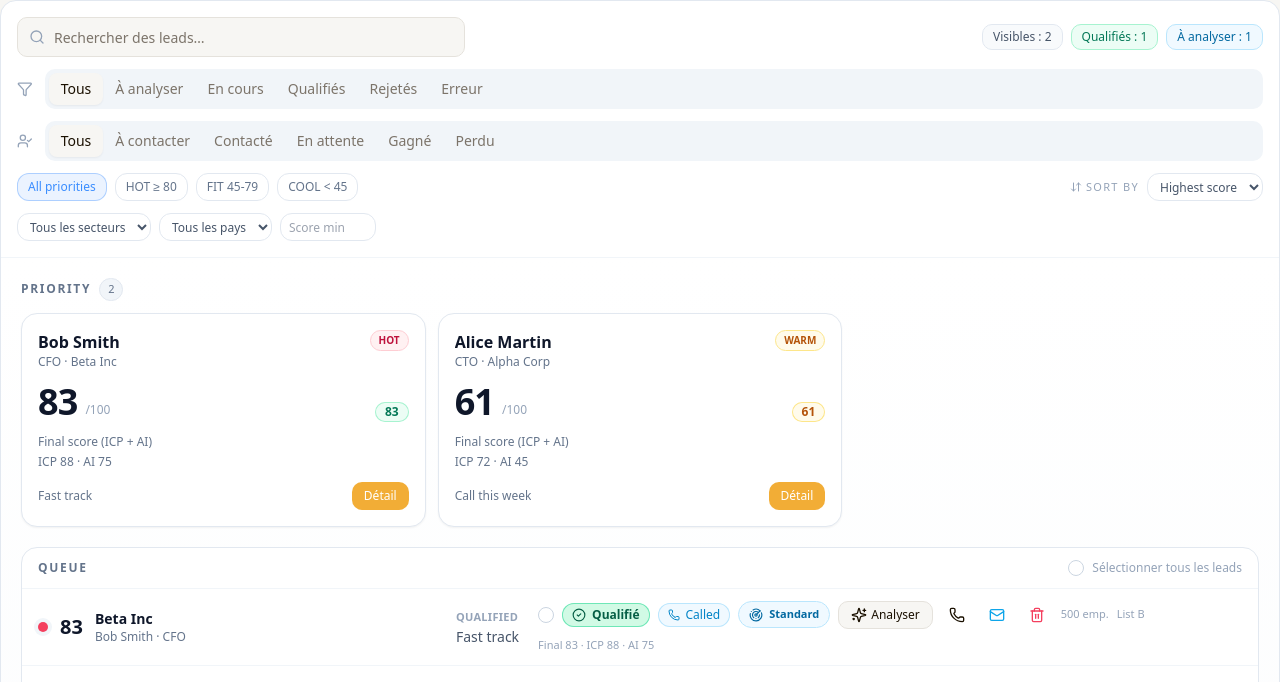
Test case: LeadsTable › filters leads by search text
The image size is (1280, 682).
Step 1. Type "Alpha" into the field with placeholder "Rechercher des leads…" → point(241, 37), box [17,17,465,57]
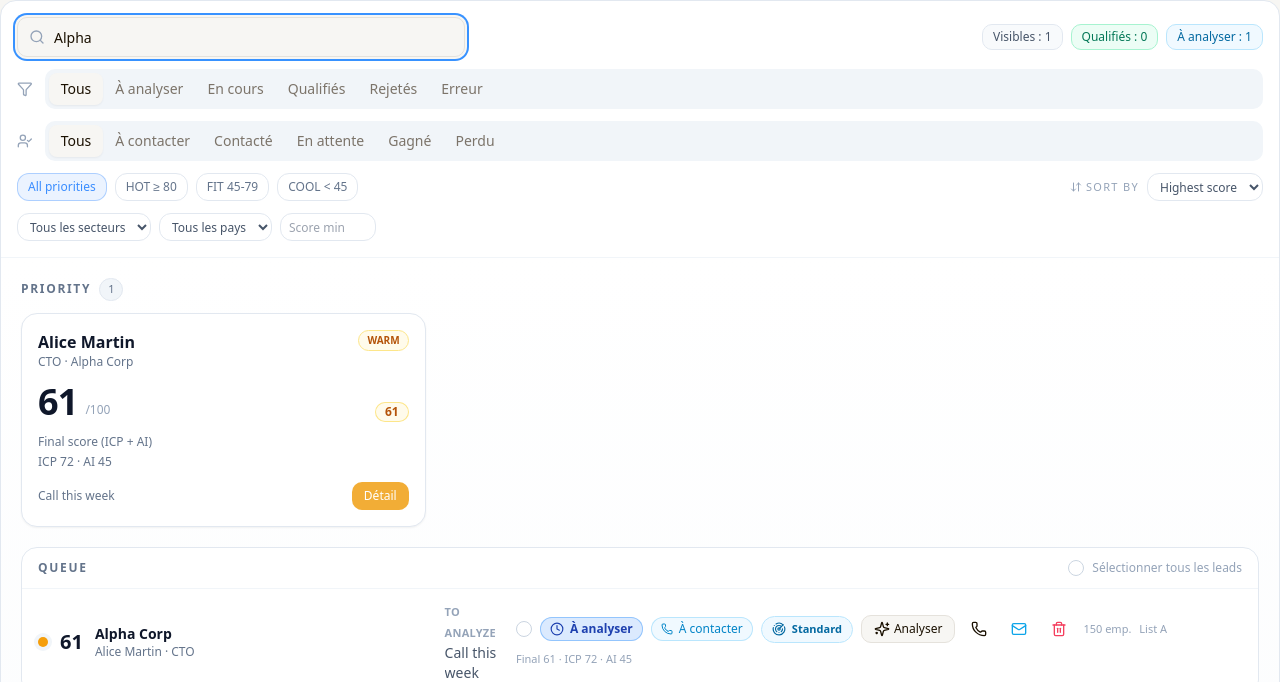
Check: the text "Alpha Corp" is shown, box [95,624,172,642]
Check: the text "Beta Inc" is gone
